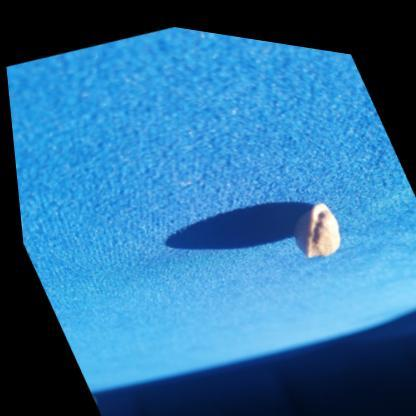pistachio: (298, 195, 343, 257)
